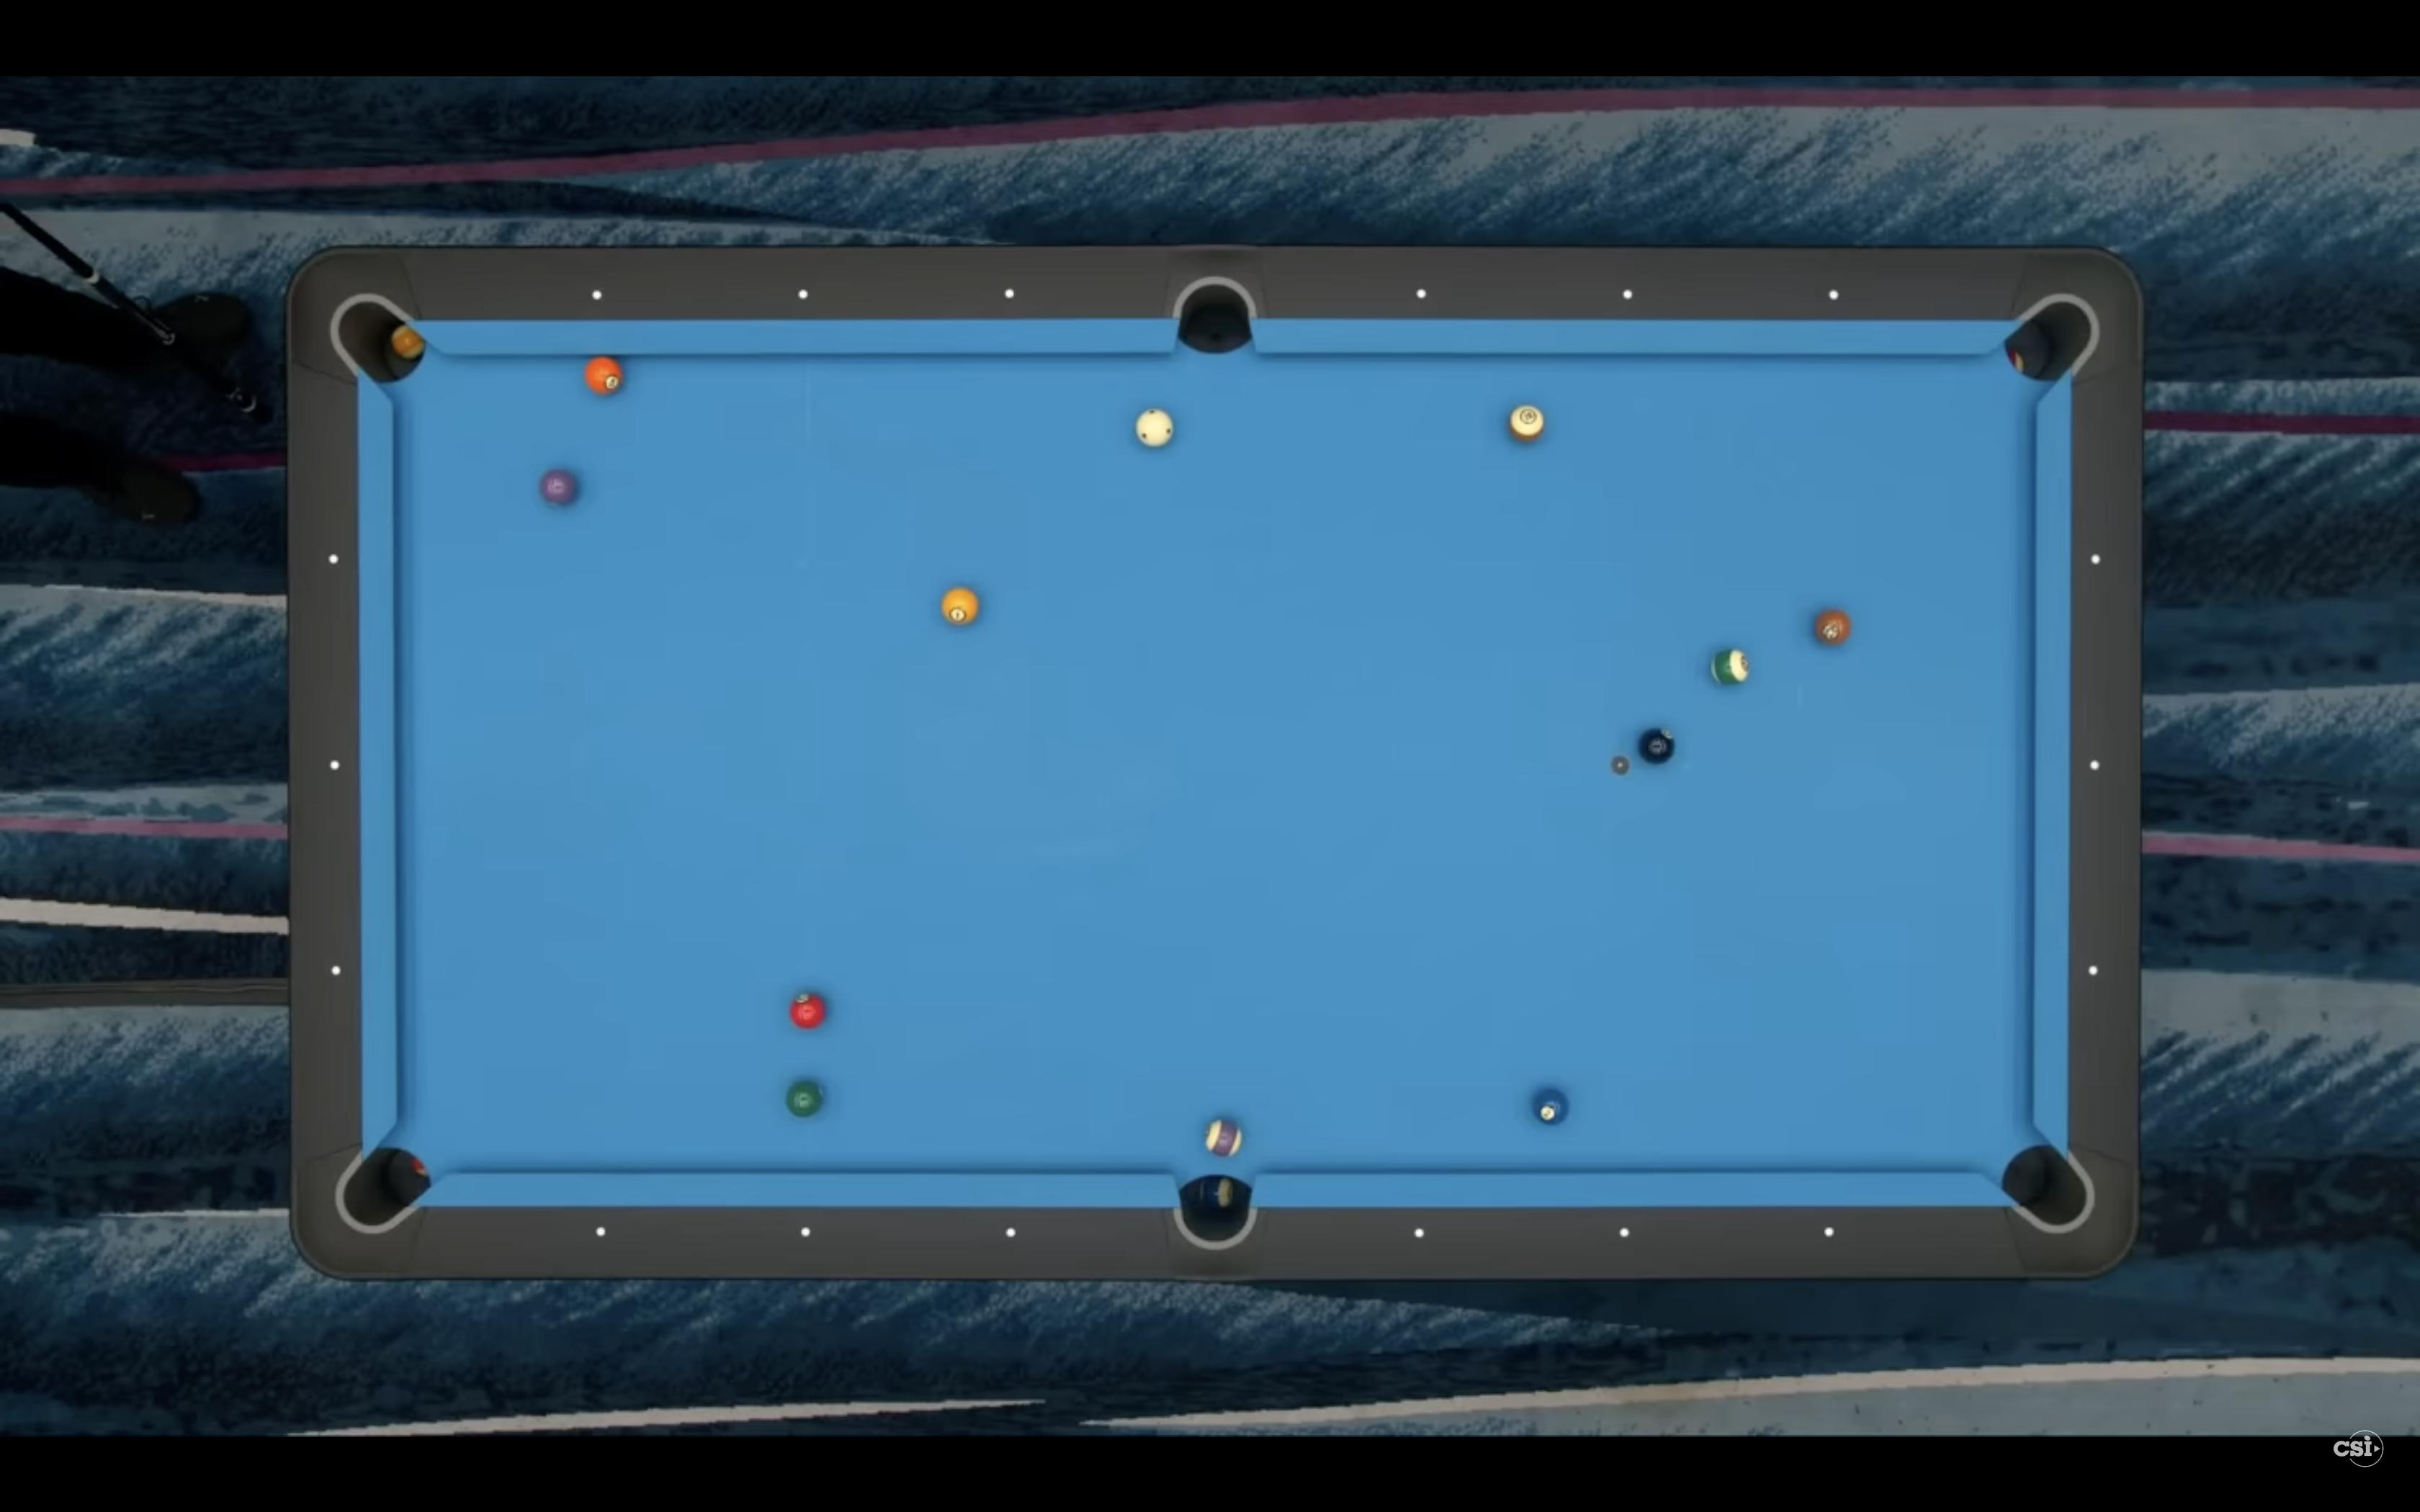Black: (1638, 726, 1676, 766)
Cue: (1134, 406, 1176, 448)
Dot: (2089, 552, 2103, 566), (1004, 1226, 1017, 1239), (1415, 287, 1429, 300), (328, 552, 340, 566), (594, 1225, 606, 1237), (2089, 758, 2101, 770), (1828, 289, 1840, 301), (1004, 287, 1016, 300), (329, 965, 341, 977), (329, 758, 340, 772), (800, 1226, 810, 1239), (1415, 1226, 1425, 1239), (1619, 1226, 1631, 1237), (2087, 965, 2099, 975), (1622, 287, 1632, 300), (798, 287, 808, 300), (591, 289, 603, 300), (1824, 1226, 1835, 1237)
Solid: (582, 354, 625, 395), (941, 585, 983, 627), (1812, 606, 1852, 646), (784, 1080, 824, 1120), (538, 467, 577, 505), (788, 991, 826, 1029), (1531, 1089, 1568, 1125)
Striped: (1202, 1117, 1244, 1158), (1507, 404, 1547, 444), (1711, 646, 1751, 686)
